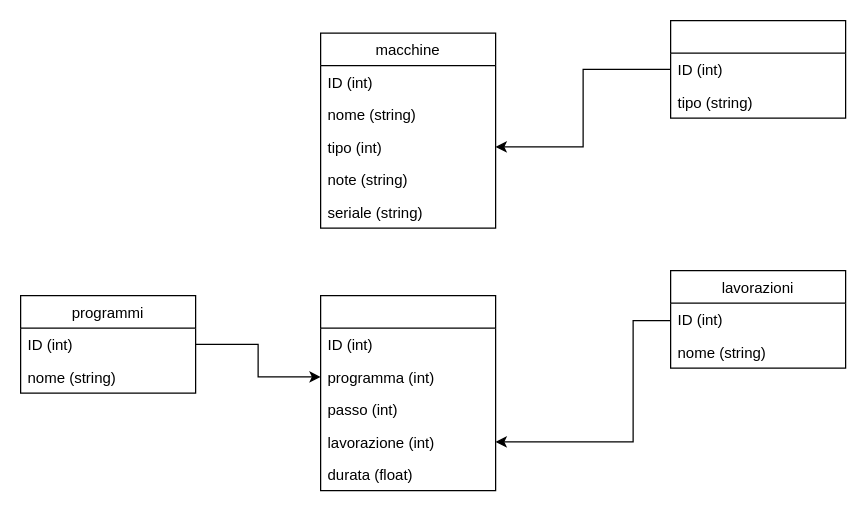
The diagram is 866 pixels wide and 511 high, and some of its shapes have lost their labels. The shapes that lost their labels are listed below. From the top down, each one's box as (x1, y1, x2, y2) in pixels, then its label:
(669, 19, 846, 118): tipi
(319, 294, 496, 491): passi
